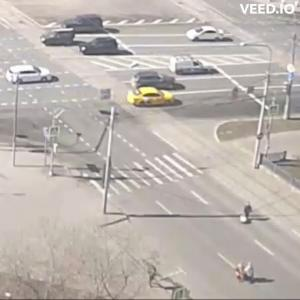car: (54, 12, 112, 36), (81, 34, 120, 55), (188, 26, 235, 43), (177, 59, 218, 78), (45, 31, 78, 48)
